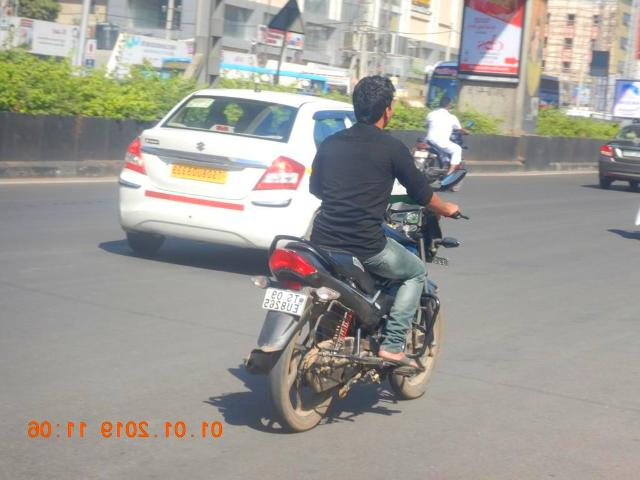motor: (246, 208, 442, 433), (419, 134, 467, 189)
non-helm: (354, 76, 396, 128), (439, 97, 452, 110)
